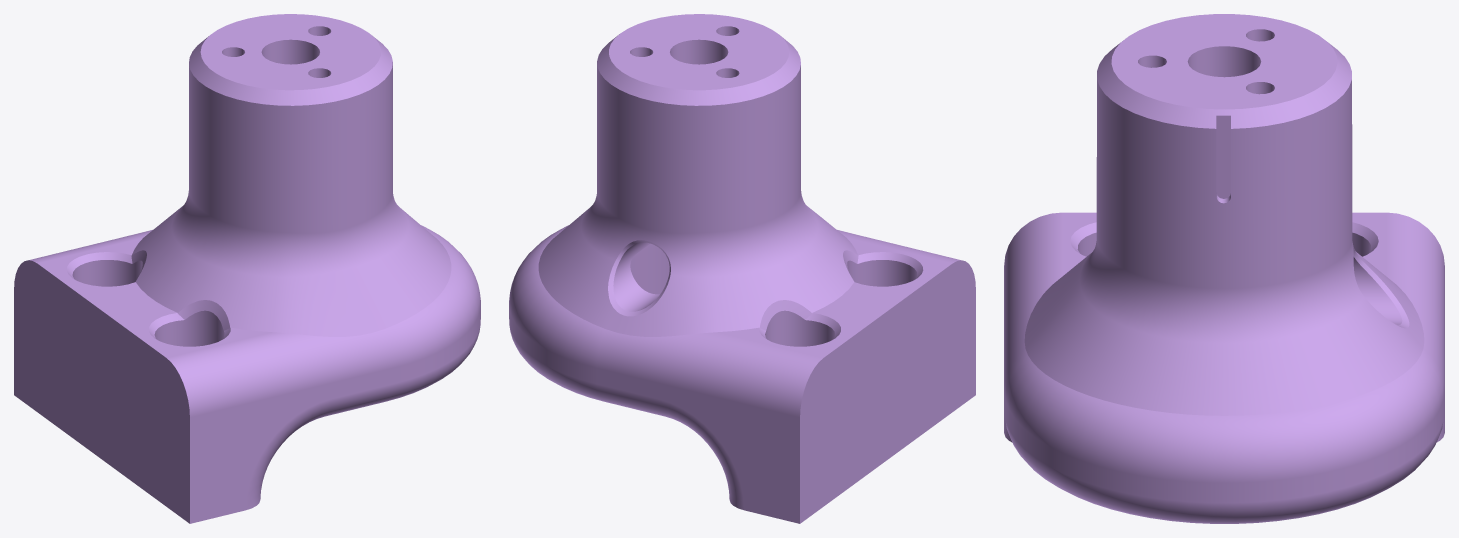
Rendered from Main_CaseJoint_5_1.dae.
The picture shows the model from 3 angles, left to right: view 1: azimuth 30°, elevation 25°; view 2: azimuth 150°, elevation 25°; view 3: azimuth 270°, elevation 25°; orthographic projection. The views are drawn at different scales.
Parts seen in each view (by area): view 1: Main_CaseJoint_5_1; view 2: Main_CaseJoint_5_1; view 3: Main_CaseJoint_5_1.
Boxes of the visible parts, x1,y1,x2,y2 form: Main_CaseJoint_5_1: (14, 14, 480, 523); Main_CaseJoint_5_1: (509, 14, 975, 523); Main_CaseJoint_5_1: (1004, 14, 1444, 523).
Bounding box in the file's own units: 0.035 × 0.03 × 0.035.
